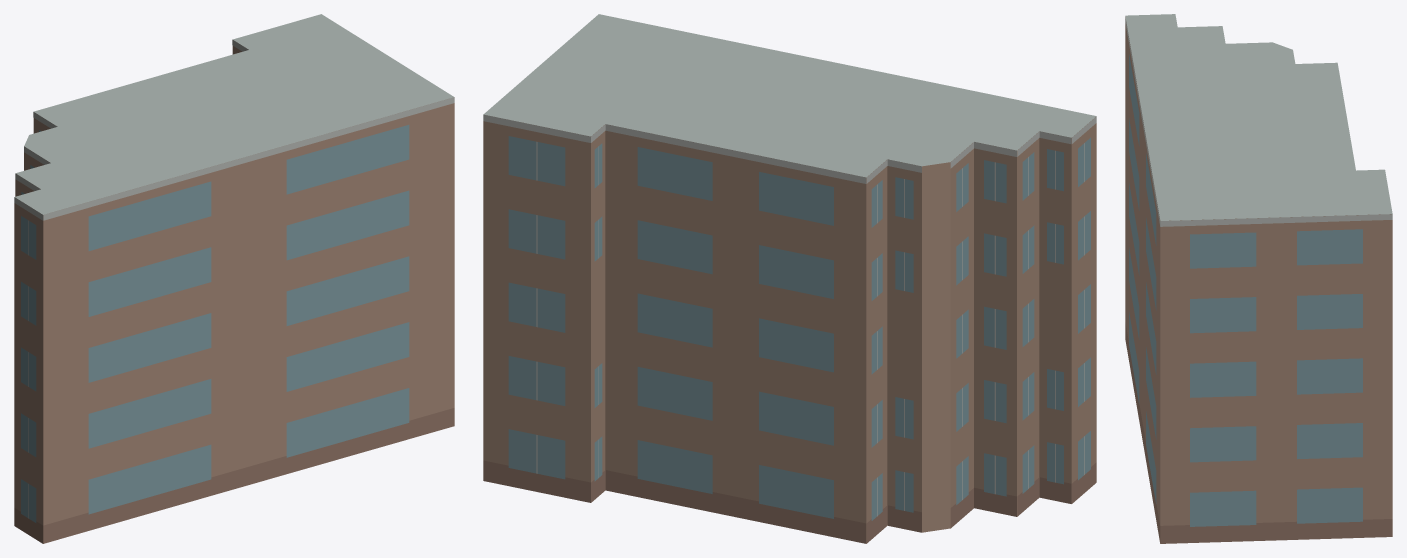
The model's file is survey-upis-32634107.glb.
The picture shows the model from 3 angles, left to right: view 1: azimuth 30°, elevation 25°; view 2: azimuth 150°, elevation 25°; view 3: azimuth 270°, elevation 25°; orthographic projection. The views are drawn at different scales.
Parts seen in each view (by area): view 1: survey-upis-32634107.tmp; view 2: survey-upis-32634107.tmp; view 3: survey-upis-32634107.tmp.
Boxes of the visible parts, x1,y1,x2,y2 form: survey-upis-32634107.tmp: (14, 14, 454, 543); survey-upis-32634107.tmp: (483, 14, 1096, 543); survey-upis-32634107.tmp: (1125, 14, 1392, 543).
Size of the model in its own units: 18.58 by 13.5 by 10.14.
